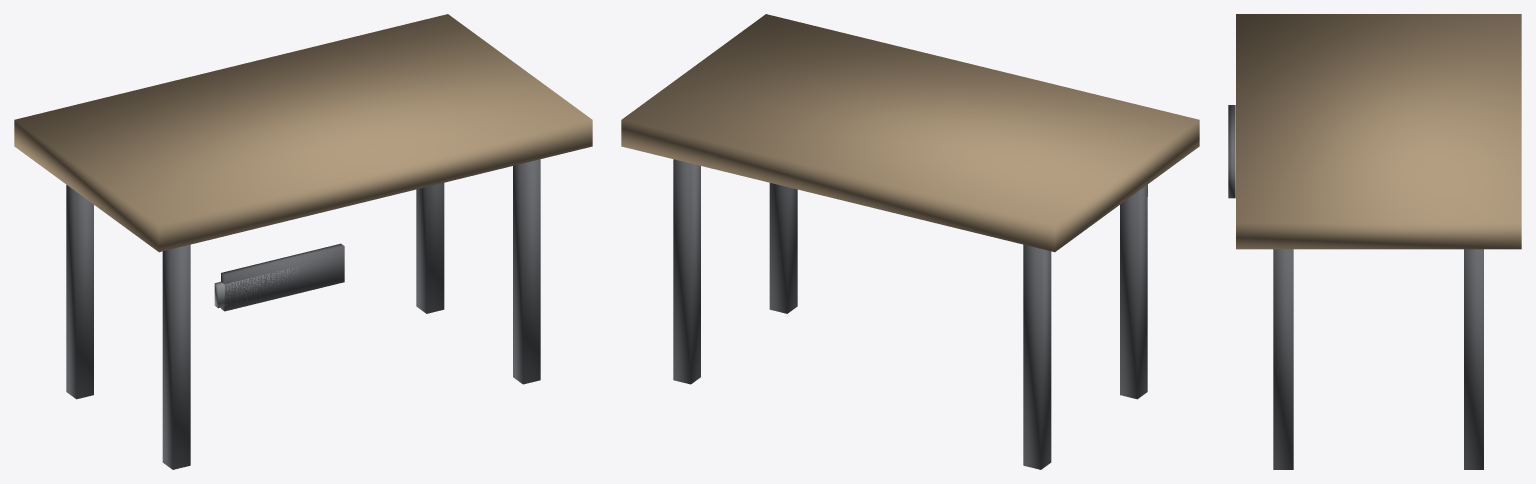
Rendered from dining_table__weathered.glb.
The picture shows the model from 3 angles, left to right: view 1: azimuth 30°, elevation 25°; view 2: azimuth 150°, elevation 25°; view 3: azimuth 270°, elevation 25°; orthographic projection.
Parts seen in each view (by area): view 1: world; view 2: world; view 3: world.
Part boxes in pixels (x1=…): world: x1=14, y1=14, x2=592, y2=469; world: x1=621, y1=14, x2=1199, y2=469; world: x1=1228, y1=14, x2=1521, y2=469.
Size of the model in its own units: 1.35 by 0.792 by 0.8007.
